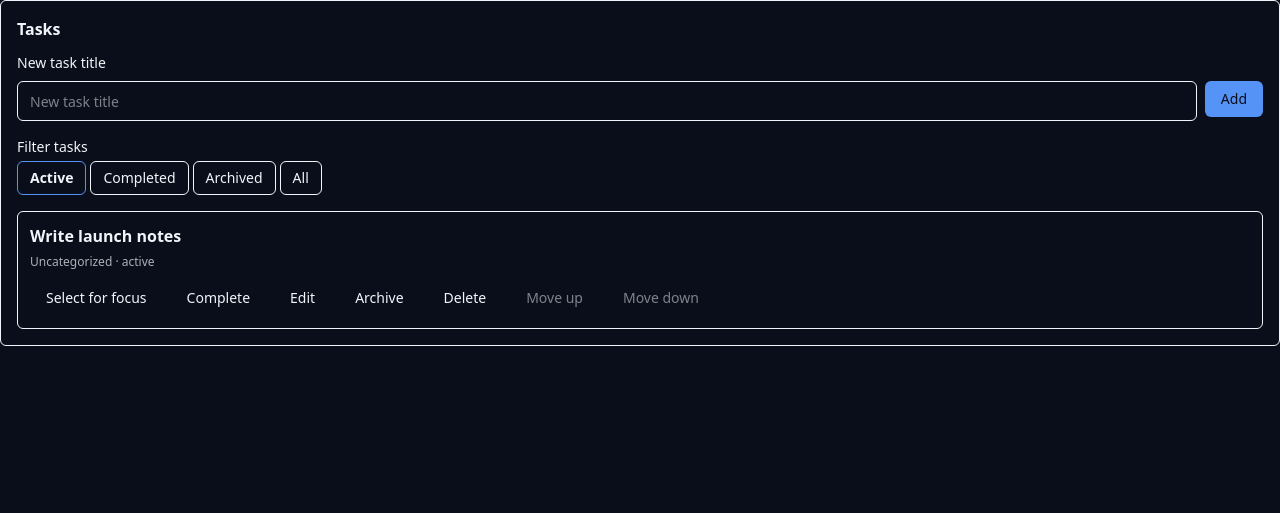
Scenario: <TaskPanel /> list + quick-add (slice 2) › quick-add posts the title and shows the new task
Check: the list item is shown, box [17, 211, 1263, 329]
Type "Plan next week" into the field labelled "New task title".
click(607, 101); type("Plan next week")  # box [17, 81, 1197, 121]
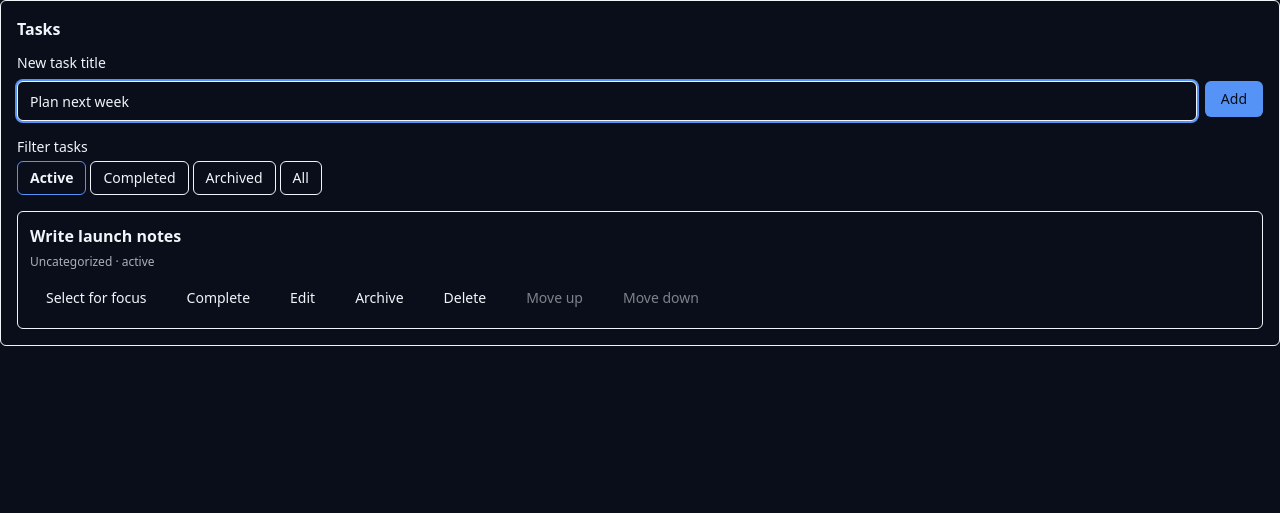
Click the button "Add".
click(1234, 99)  # box [1205, 81, 1263, 117]
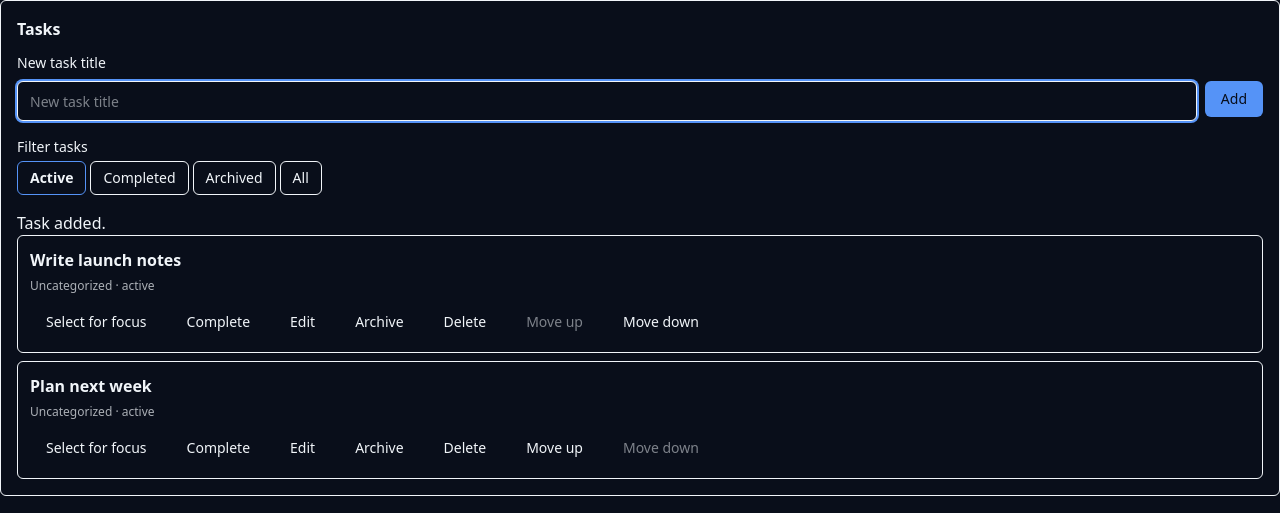
Check: the text "Plan next week" is shown, box [30, 375, 152, 397]
Check: the field labelled "New task title" is empty, box [17, 81, 1197, 121]
